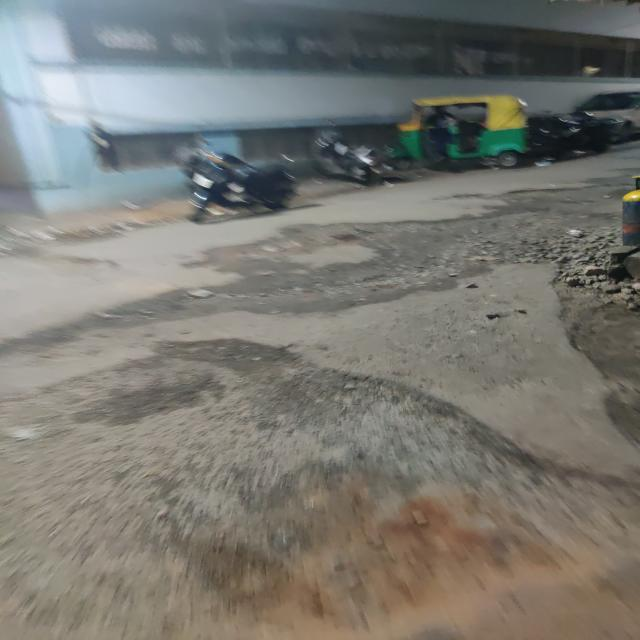potholes: (11, 216, 640, 554)
